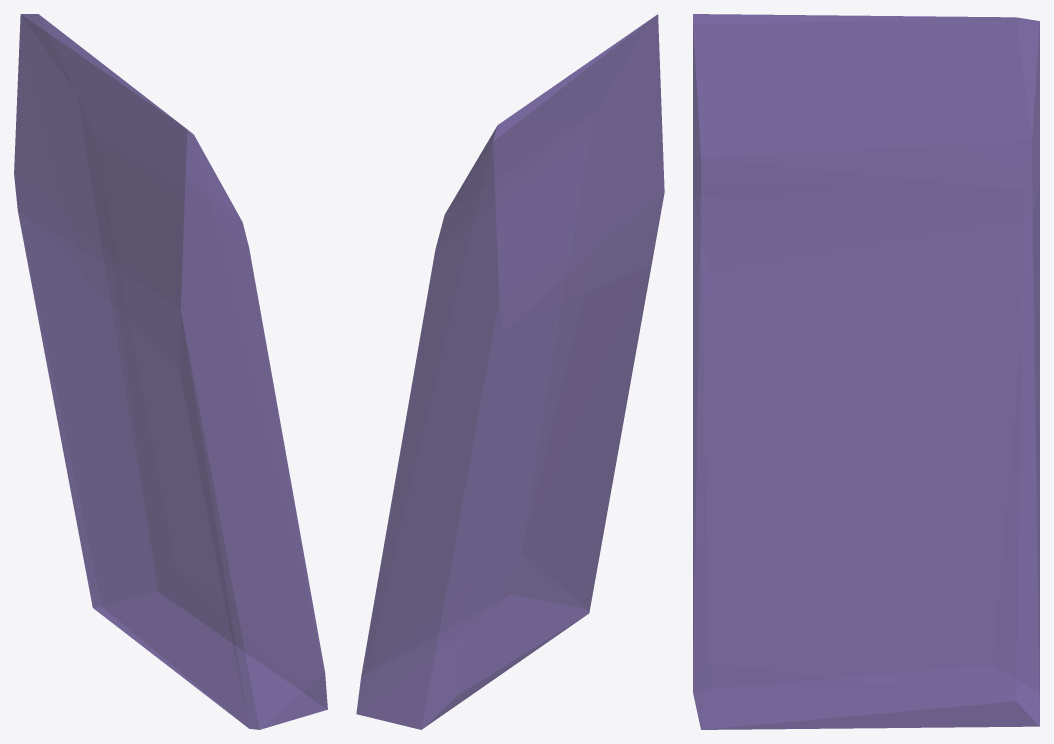
3 renders of one model, left to right at view 1: azimuth 30°, elevation 25°; view 2: azimuth 150°, elevation 25°; view 3: azimuth 270°, elevation 25°, orthographic. The views are drawn at different scales.
Visible parts, largest first — view 1: Shape_IndexedFaceSet.012_Shape_IndexedFaceSet.5726; view 2: Shape_IndexedFaceSet.012_Shape_IndexedFaceSet.5726; view 3: Shape_IndexedFaceSet.012_Shape_IndexedFaceSet.5726.
Boxes of the visible parts, box(x1,y1,x2,y2) form: Shape_IndexedFaceSet.012_Shape_IndexedFaceSet.5726: box(14, 14, 327, 729); Shape_IndexedFaceSet.012_Shape_IndexedFaceSet.5726: box(356, 14, 664, 729); Shape_IndexedFaceSet.012_Shape_IndexedFaceSet.5726: box(693, 14, 1039, 729).
Size of the model in its own units: 0.058 by 0.2269 by 0.1109.
